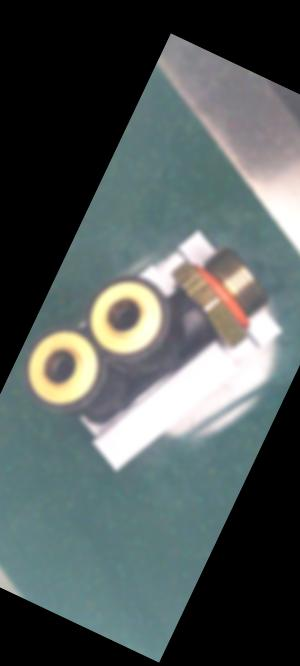craze: (174, 297, 196, 322)
